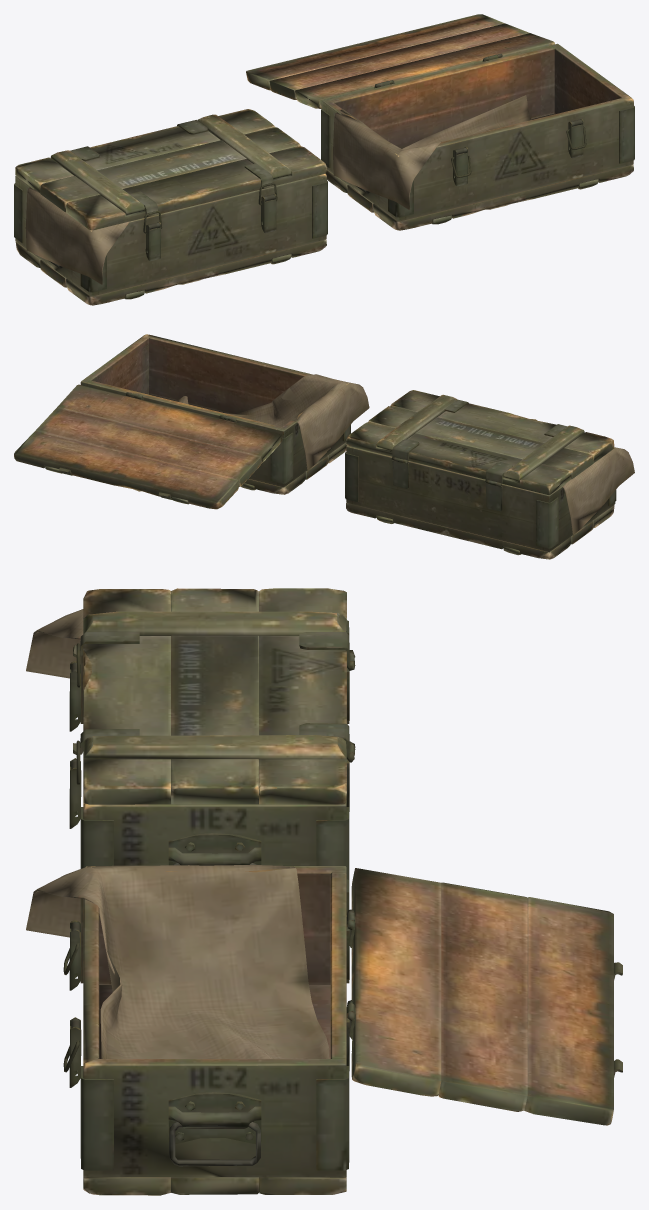
File: old_military_crate.glb
The picture shows the model from 3 angles, top to bottom: view 1: azimuth 30°, elevation 25°; view 2: azimuth 150°, elevation 25°; view 3: azimuth 270°, elevation 25°; orthographic projection. The views are drawn at different scales.
Parts seen in each view (by area): view 1: old_military_crate_b, old_military_crate_lid_a, old_military_crate_a, old_military_crate_lid_b, old_military_crate_cloth_b, old_military_crate_cloth_a, old_military_crate_latch_a, old_military_crate_latch_b; view 2: old_military_crate_lid_b, old_military_crate_lid_a, old_military_crate_a, old_military_crate_b, old_military_crate_cloth_b, old_military_crate_cloth_a; view 3: old_military_crate_lid_a, old_military_crate_lid_b, old_military_crate_b, old_military_crate_cloth_b, old_military_crate_a, old_military_crate_cloth_a, old_military_crate_latch_a, old_military_crate_latch_b.
Part boxes in pixels (x1,y1,x2,y2): old_military_crate_b: [321, 43, 634, 230]; old_military_crate_lid_a: [15, 109, 326, 230]; old_military_crate_a: [14, 173, 327, 305]; old_military_crate_lid_b: [246, 14, 554, 108]; old_military_crate_cloth_b: [333, 95, 531, 209]; old_military_crate_cloth_a: [25, 187, 129, 284]; old_military_crate_latch_a: [145, 194, 276, 261]; old_military_crate_latch_b: [453, 119, 583, 186]; old_military_crate_lid_b: [14, 384, 282, 509]; old_military_crate_lid_a: [346, 390, 614, 495]; old_military_crate_a: [345, 445, 616, 559]; old_military_crate_b: [80, 334, 350, 494]; old_military_crate_cloth_b: [176, 374, 369, 470]; old_military_crate_cloth_a: [562, 447, 634, 535]; old_military_crate_lid_a: [73, 588, 355, 805]; old_military_crate_lid_b: [347, 868, 622, 1125]; old_military_crate_b: [80, 866, 354, 1195]; old_military_crate_cloth_b: [26, 865, 329, 1058]; old_military_crate_a: [80, 620, 355, 886]; old_military_crate_cloth_a: [26, 609, 83, 678]; old_military_crate_latch_a: [69, 661, 81, 828]; old_military_crate_latch_b: [69, 920, 81, 1087].
Bounding box in the file's own units: 1.81 × 0.3009 × 0.9743.
Materials: 1 (1 with a texture image).
